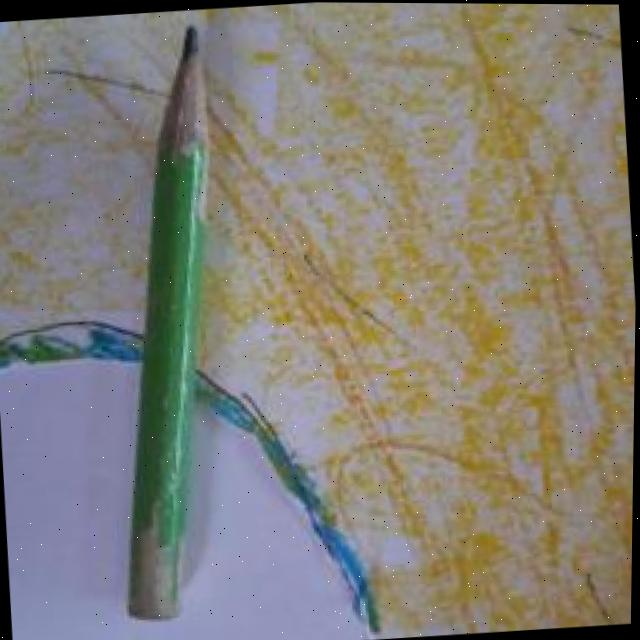pencil: (85, 21, 243, 621)
